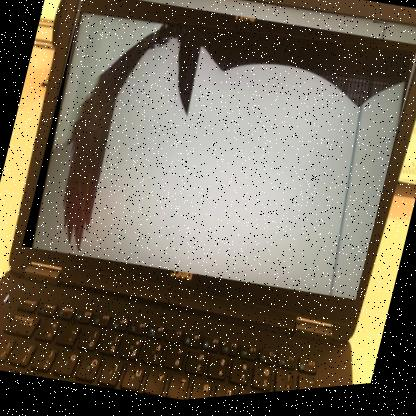crack: (20, 0, 415, 332)
lines: (322, 27, 390, 234)
